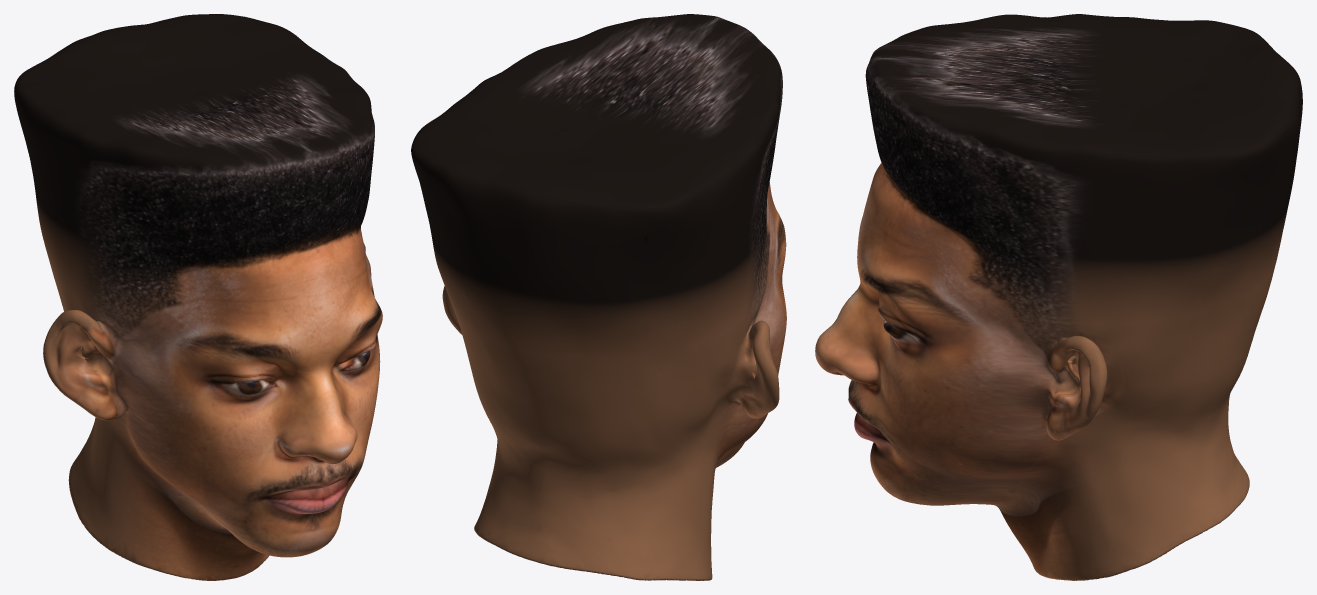
Rendered from will-head-textured-v2.glb.
The picture shows the model from 3 angles, left to right: view 1: azimuth 30°, elevation 25°; view 2: azimuth 150°, elevation 25°; view 3: azimuth 270°, elevation 25°; orthographic projection. The views are drawn at different scales.
Visible parts, largest first — view 1: geometry_0; view 2: geometry_0; view 3: geometry_0.
Part boxes in pixels (x1,y1,x2,y2): geometry_0: [14, 14, 382, 580]; geometry_0: [411, 14, 786, 580]; geometry_0: [815, 14, 1302, 580].
Size of the model in its own units: 0.2419 by 0.34 by 0.2971.
Materials: 1 (1 with a texture image).
